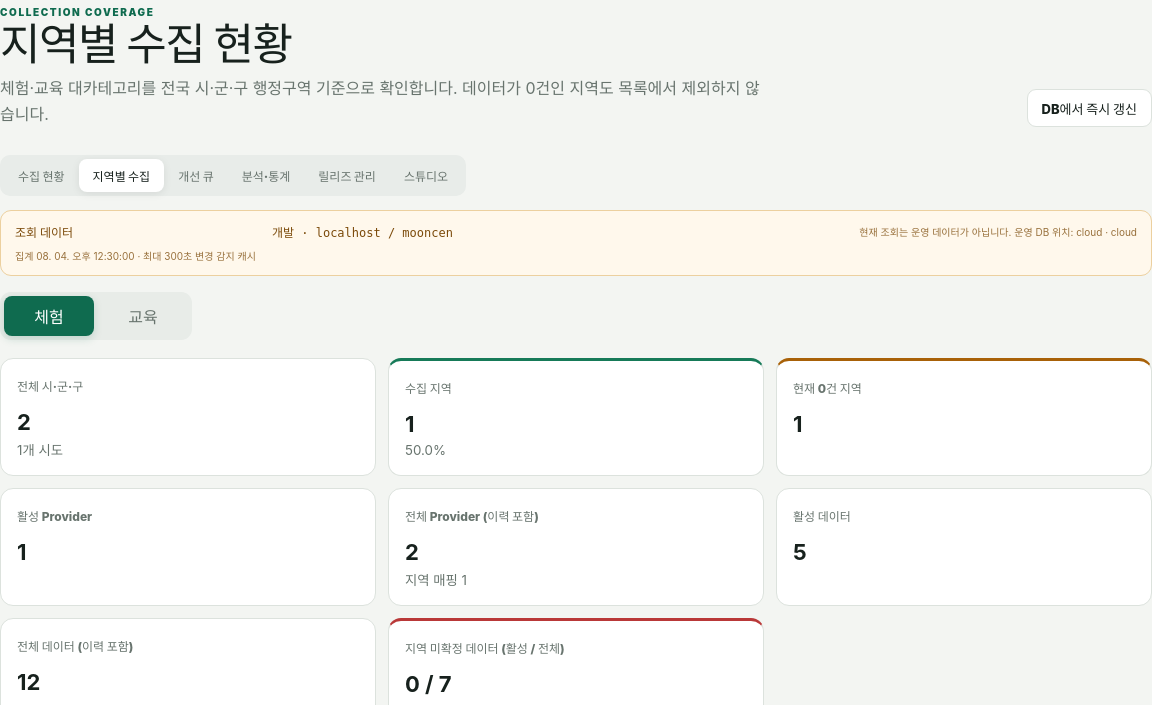
it: RegionCoveragePage › shows a configured zero-data provider as an explicit zero-count row
Click the tab "교육": (143, 316) [98,296,188,336]
(page scrolled)
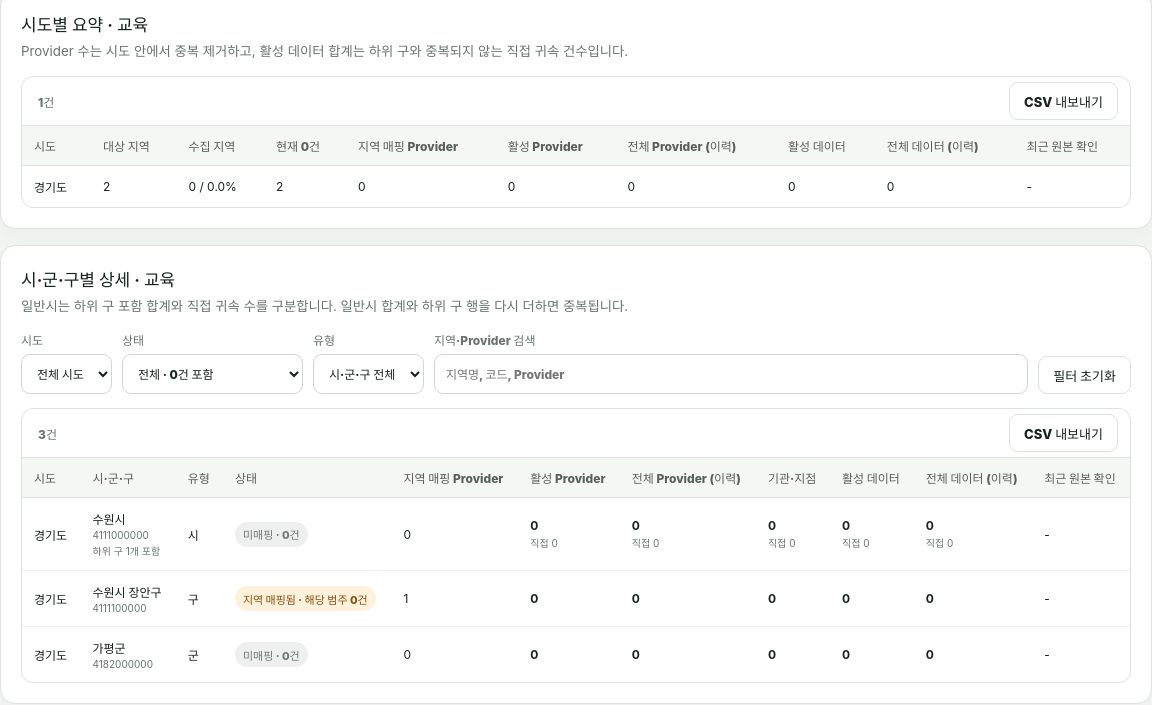
Click the text "수원시 장안구": (128, 592) [92,583,164,600]
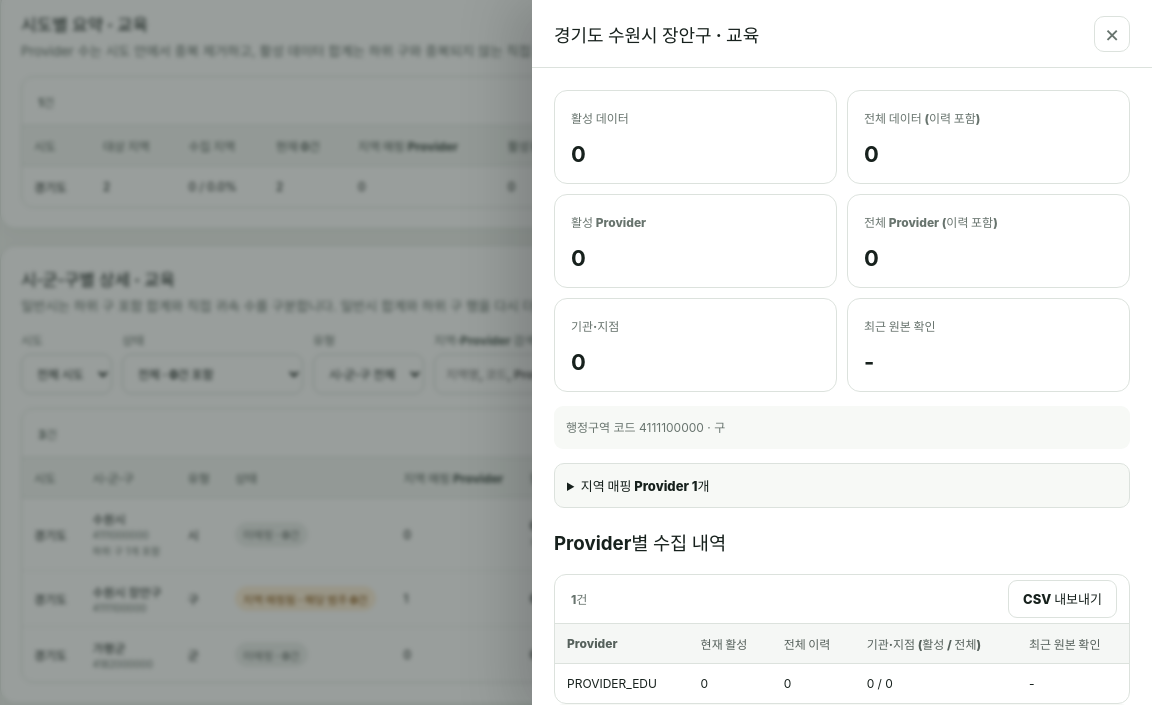
Now the text "PROVIDER_EDU" is shown, box [567,676,657,691]
Now the 1st cell "0" is shown, box [689,663,772,703]
Now the 2nd cell "0" is shown, box [772,663,855,703]
